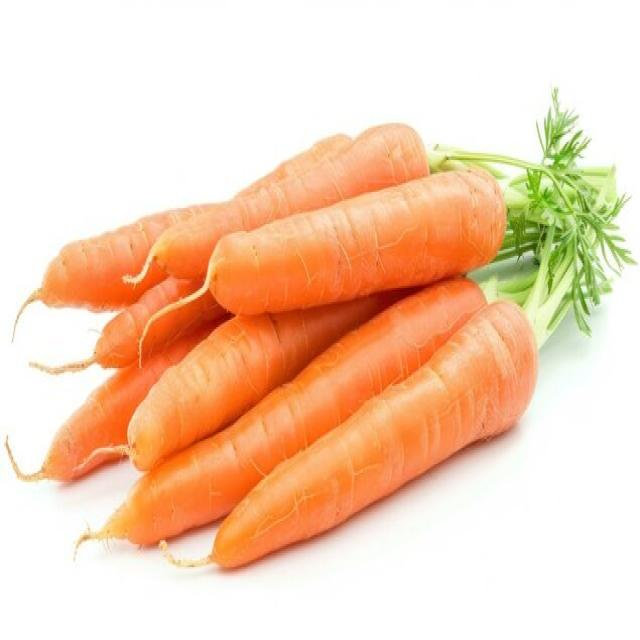Carrot: (157, 295, 538, 571), (135, 162, 507, 364), (10, 128, 355, 341), (121, 121, 430, 290), (126, 283, 397, 473), (4, 311, 226, 484), (10, 201, 210, 341), (27, 272, 221, 375)
